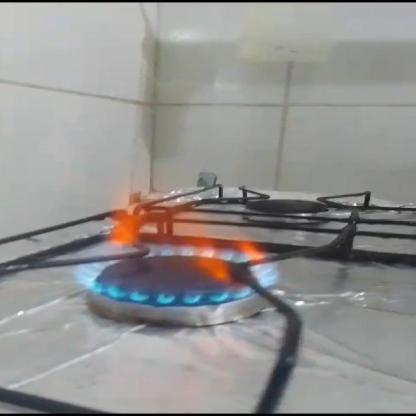fire: (75, 156, 284, 310)
